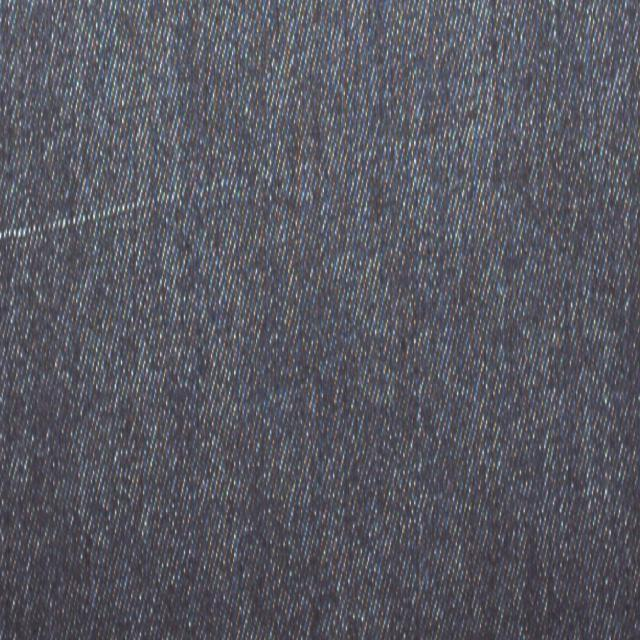Line: (2, 110, 515, 250)
